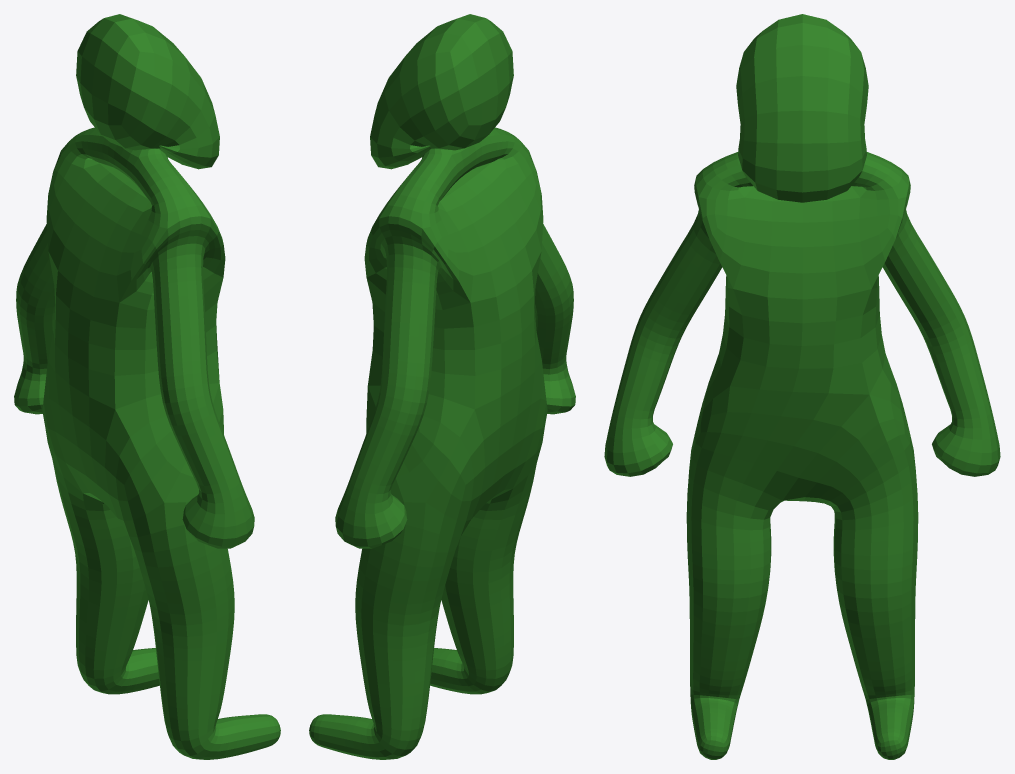
Rendered from gnom.fbx.
The picture shows the model from 3 angles, left to right: view 1: azimuth 30°, elevation 25°; view 2: azimuth 150°, elevation 25°; view 3: azimuth 270°, elevation 25°; orthographic projection. The views are drawn at different scales.
Parts seen in each view (by area): view 1: Plane; view 2: Plane; view 3: Plane.
Boxes of the visible parts, x1,y1,x2,y2 form: Plane: (14, 14, 280, 759); Plane: (309, 14, 575, 759); Plane: (604, 14, 1000, 759).
Bounding box in the file's own units: 75.95 × 316 × 163.
